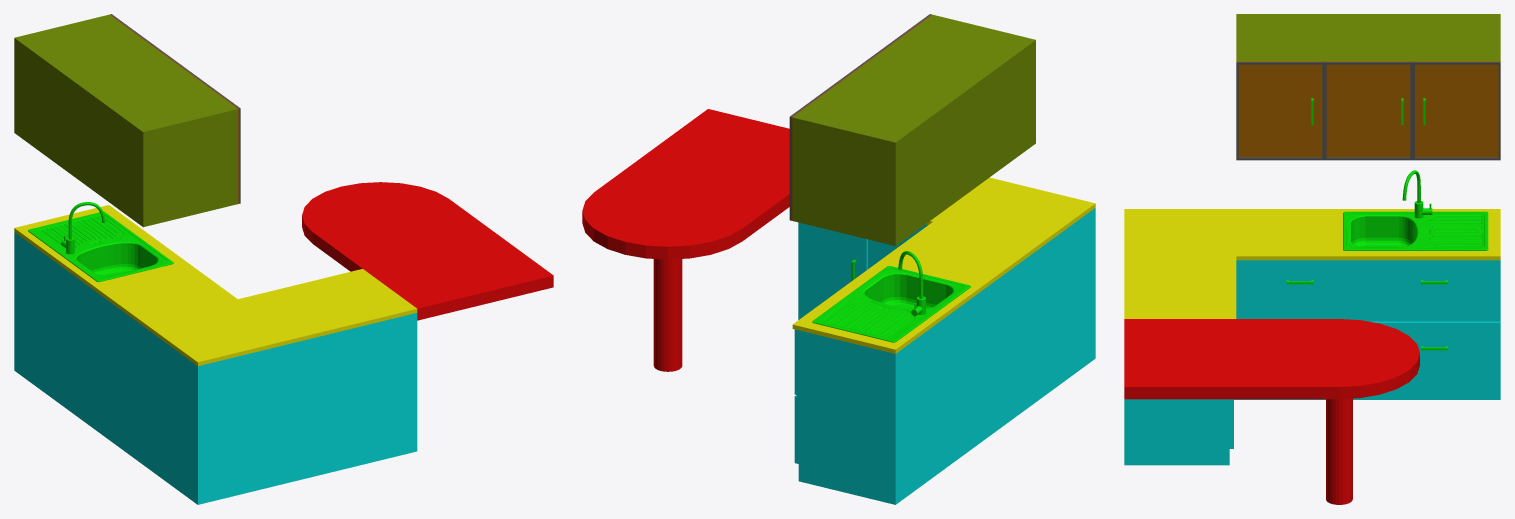
File: OM_1BHK_R_Kitchen_Cabinate.fbx
The picture shows the model from 3 angles, left to right: view 1: azimuth 30°, elevation 25°; view 2: azimuth 150°, elevation 25°; view 3: azimuth 270°, elevation 25°; orthographic projection. The views are drawn at different scales.
Visible parts, largest first — view 1: OM_1BHK_Kitchen_Cabinates_01_B_Main_cage, OM_1BHK_Kitchen_Cabinates_01_T_Main_cage, OM_1BHK_Kitchen_Dining_Table_01_Top, OM_1BHK_Kitchen_Cabinates_01_B_Topmarble, OM_1BHK_Kitchen_Cabinates_01_B_Sink, OM_1BHK_Kitchen_Cabinates_01_T_Doorborders; view 2: OM_1BHK_Kitchen_Cabinates_01_B_Main_cage, OM_1BHK_Kitchen_Cabinates_01_T_Main_cage, OM_1BHK_Kitchen_Dining_Table_01_Top, OM_1BHK_Kitchen_Cabinates_01_B_Topmarble, OM_1BHK_Kitchen_Cabinates_01_B_Sink, OM_1BHK_Kitchen_Cabinates_01_B_Doors, OM_1BHK_Kitchen_Dining_Table_01_Leg, OM_1BHK_Kitchen_Cabinates_01_T_Doorborders; view 3: OM_1BHK_Kitchen_Cabinates_01_T_Doors, OM_1BHK_Kitchen_Dining_Table_01_Top, OM_1BHK_Kitchen_Cabinates_01_B_Doors, OM_1BHK_Kitchen_Cabinates_01_B_Topmarble, OM_1BHK_Kitchen_Cabinates_01_T_Main_cage, OM_1BHK_Kitchen_Cabinates_01_B_Main_cage, OM_1BHK_Kitchen_Cabinates_01_B_Sink, OM_1BHK_Kitchen_Cabinates_01_T_Doorborders, OM_1BHK_Kitchen_Dining_Table_01_Leg.
Boxes of the visible parts, <box> form: OM_1BHK_Kitchen_Cabinates_01_B_Main_cage: <box>14,232,417,504</box>; OM_1BHK_Kitchen_Cabinates_01_T_Main_cage: <box>14,14,237,227</box>; OM_1BHK_Kitchen_Dining_Table_01_Top: <box>302,182,553,320</box>; OM_1BHK_Kitchen_Cabinates_01_B_Topmarble: <box>14,205,417,366</box>; OM_1BHK_Kitchen_Cabinates_01_B_Sink: <box>28,202,173,282</box>; OM_1BHK_Kitchen_Cabinates_01_T_Doorborders: <box>110,14,240,203</box>; OM_1BHK_Kitchen_Cabinates_01_B_Main_cage: <box>796,208,1095,504</box>; OM_1BHK_Kitchen_Cabinates_01_T_Main_cage: <box>792,15,1035,245</box>; OM_1BHK_Kitchen_Dining_Table_01_Top: <box>582,109,789,259</box>; OM_1BHK_Kitchen_Cabinates_01_B_Topmarble: <box>792,177,1095,353</box>; OM_1BHK_Kitchen_Cabinates_01_B_Sink: <box>812,251,970,342</box>; OM_1BHK_Kitchen_Cabinates_01_B_Doors: <box>794,222,927,463</box>; OM_1BHK_Kitchen_Dining_Table_01_Leg: <box>653,259,682,371</box>; OM_1BHK_Kitchen_Cabinates_01_T_Doorborders: <box>789,14,931,220</box>; OM_1BHK_Kitchen_Cabinates_01_T_Doors: <box>1236,61,1500,157</box>; OM_1BHK_Kitchen_Dining_Table_01_Top: <box>1124,319,1419,399</box>; OM_1BHK_Kitchen_Cabinates_01_B_Doors: <box>1231,260,1500,448</box>; OM_1BHK_Kitchen_Cabinates_01_B_Topmarble: <box>1124,209,1500,318</box>; OM_1BHK_Kitchen_Cabinates_01_T_Main_cage: <box>1236,14,1500,61</box>; OM_1BHK_Kitchen_Cabinates_01_B_Main_cage: <box>1124,260,1500,465</box>; OM_1BHK_Kitchen_Cabinates_01_B_Sink: <box>1343,170,1488,250</box>; OM_1BHK_Kitchen_Cabinates_01_T_Doorborders: <box>1236,62,1500,160</box>; OM_1BHK_Kitchen_Dining_Table_01_Leg: <box>1326,398,1352,504</box>.
Size of the model in its own units: 7.83 by 7 by 7.
